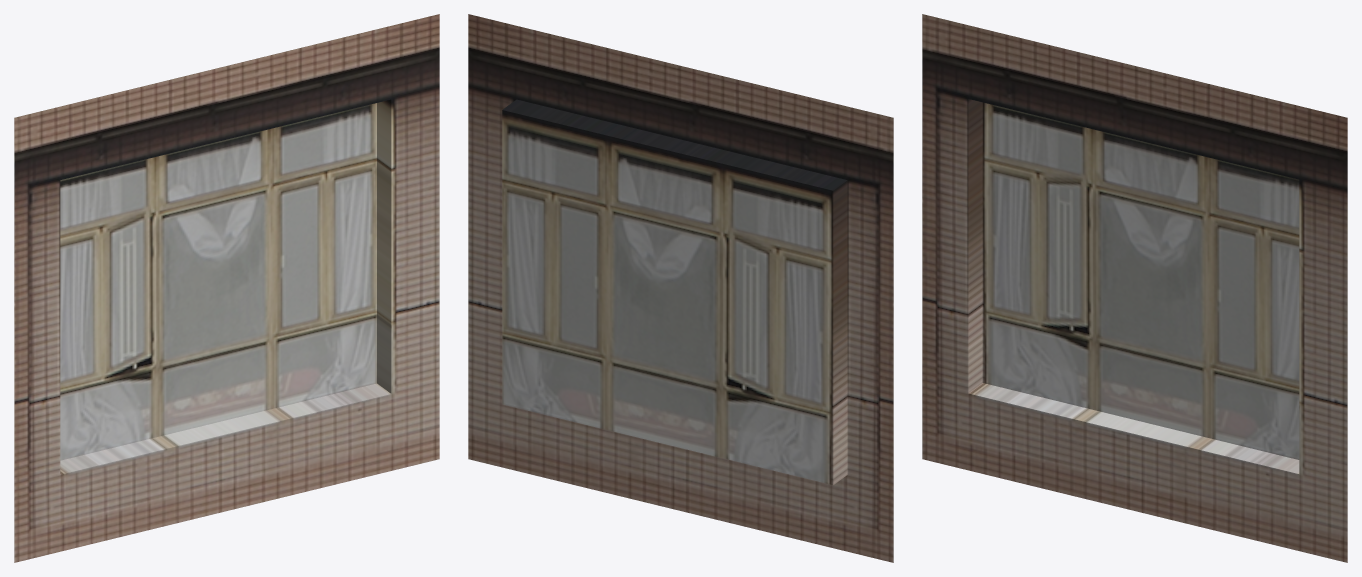
The model's file is CT_Building_Piece_Single_05.fbx.
3 views of the same model, side by side, from view 1: azimuth 30°, elevation 25°; view 2: azimuth 150°, elevation 25°; view 3: azimuth 330°, elevation 25° (orthographic).
Parts seen in each view (by area): view 1: CT_Building_Piece_Single_05; view 2: CT_Building_Piece_Single_05; view 3: CT_Building_Piece_Single_05.
Part boxes in pixels (bbox=[...]): CT_Building_Piece_Single_05: bbox=[14, 14, 439, 562]; CT_Building_Piece_Single_05: bbox=[468, 14, 893, 562]; CT_Building_Piece_Single_05: bbox=[922, 14, 1347, 562].
Bounding box in the file's own units: 256 × 256 × 15.
